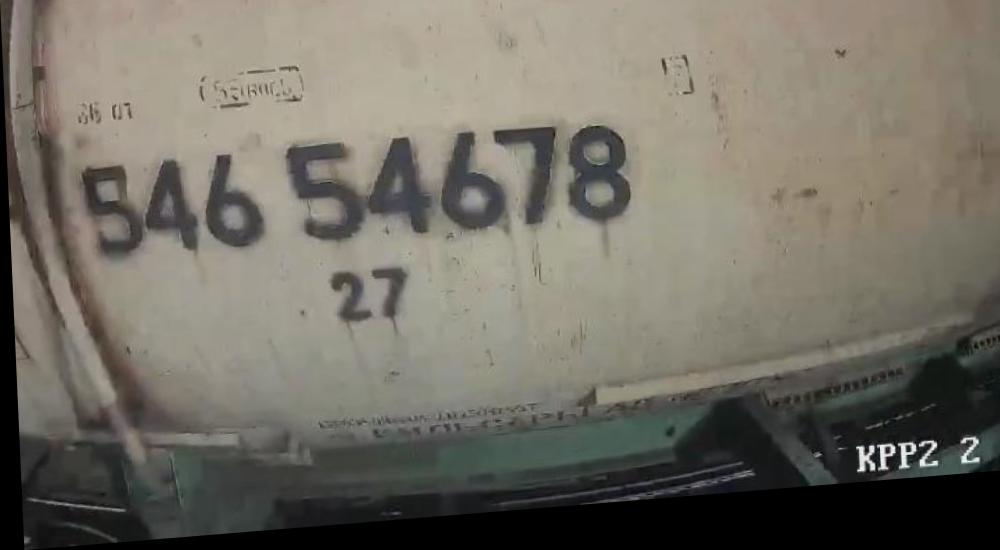Wagon-number: (73, 124, 643, 271)
